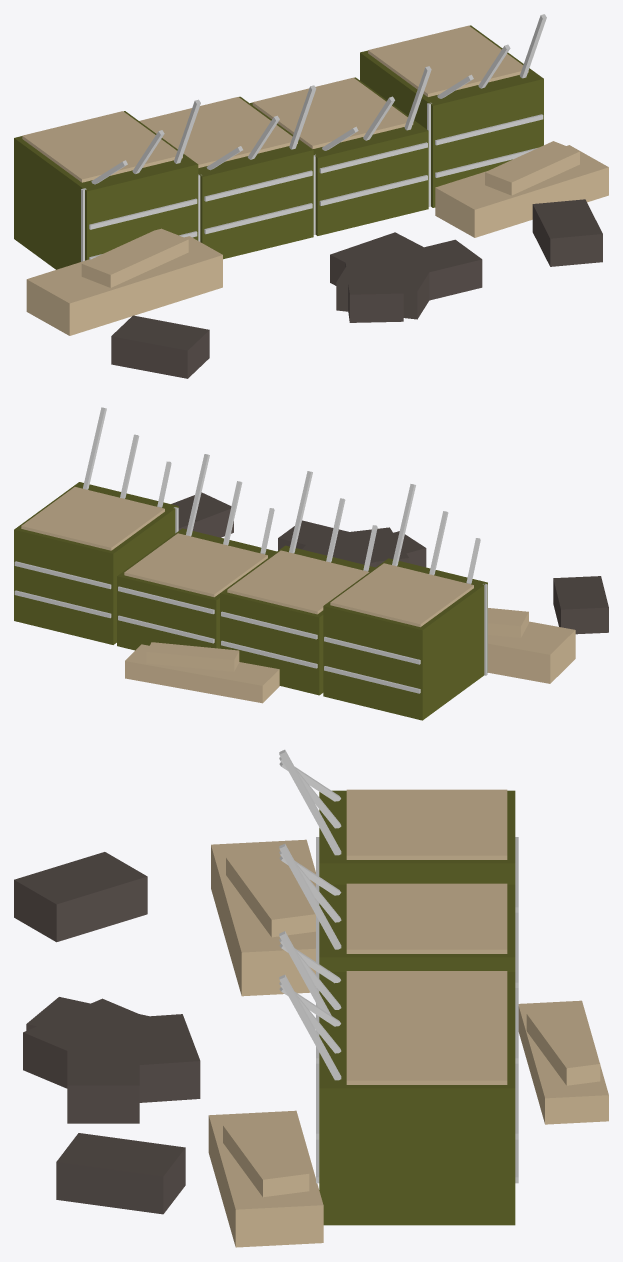
The model's file is SM_HescoCorto4_v1_Geotextil_e2_MuyDanado_LOD0.fbx.
3 views of the same model, one above another, from view 1: azimuth 30°, elevation 25°; view 2: azimuth 150°, elevation 25°; view 3: azimuth 270°, elevation 25° (orthographic). The views are drawn at different scales.
Parts seen in each view (by area): view 1: SM_hesco_piezas_v106_LOD0; view 2: SM_hesco_piezas_v106_LOD0; view 3: SM_hesco_piezas_v106_LOD0.
Boxes of the visible parts, x1=… form: SM_hesco_piezas_v106_LOD0: x1=14, y1=14, x2=608, y2=378; SM_hesco_piezas_v106_LOD0: x1=14, y1=407, x2=608, y2=720; SM_hesco_piezas_v106_LOD0: x1=14, y1=749, x2=608, y2=1247.
Bounding box in the file's own units: 5.36 × 1.65 × 3.7.
